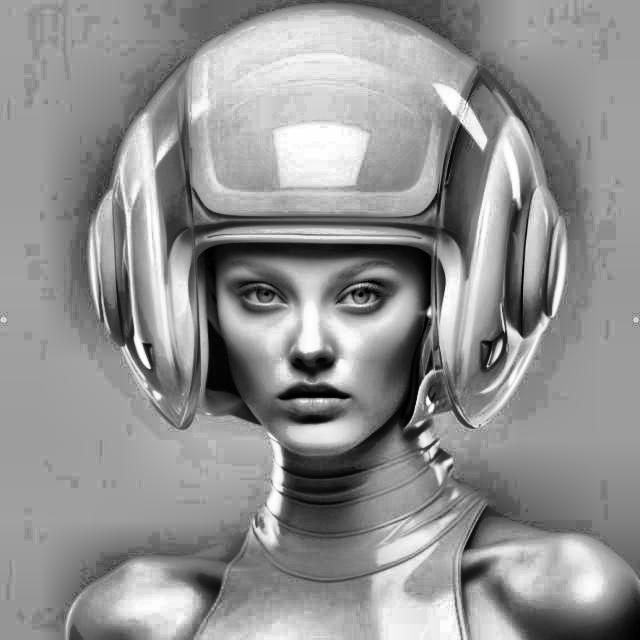Helmet: (73, 0, 574, 441)
